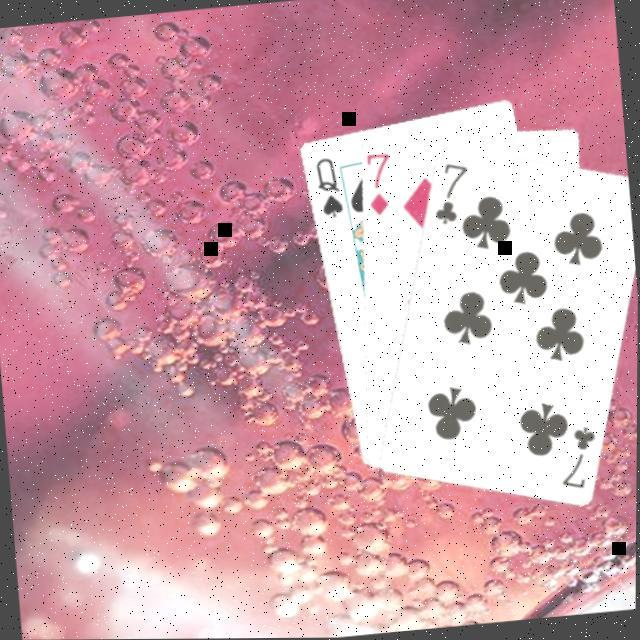7C: (555, 419, 605, 492), (428, 156, 476, 227)
7D: (363, 146, 399, 217)
QS: (312, 150, 348, 220)
